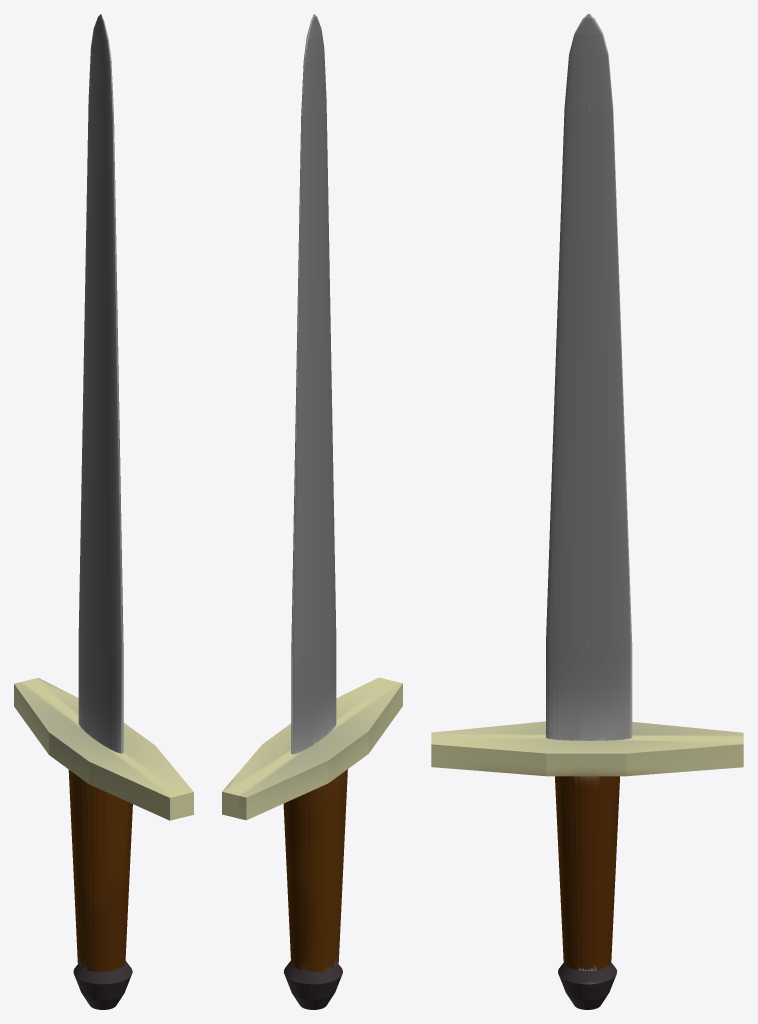
The model's file is Sword.fbx.
3 renders of one model, left to right at view 1: azimuth 30°, elevation 25°; view 2: azimuth 150°, elevation 25°; view 3: azimuth 270°, elevation 25°, orthographic.
Visible parts, largest first — view 1: Cylinder.002; view 2: Cylinder.002; view 3: Cylinder.002.
Part boxes in pixels (bbox=[...]): Cylinder.002: bbox=[14, 14, 193, 1009]; Cylinder.002: bbox=[222, 14, 402, 1009]; Cylinder.002: bbox=[431, 14, 743, 1009].
Size of the model in its own units: 34.44 by 495 by 141.
